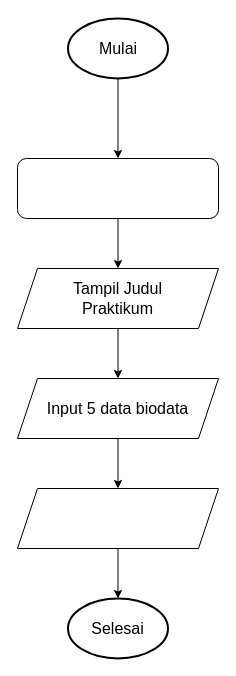
This 236x676 diagram has some shape labels left out. Each missing label, with the centre of its shape:
"Deklarasi Variabel" goes at (x=117, y=188).
"Tampil bio data mahasiswa" goes at (x=117, y=518).
